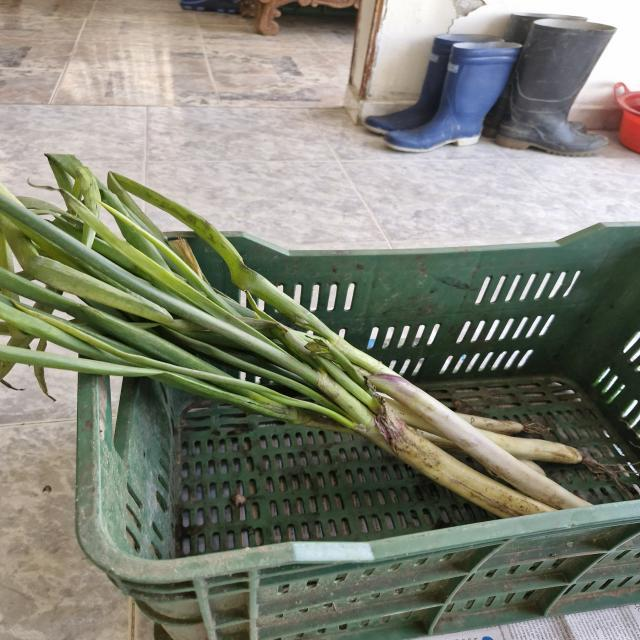green_onion: (0, 210, 608, 531)
